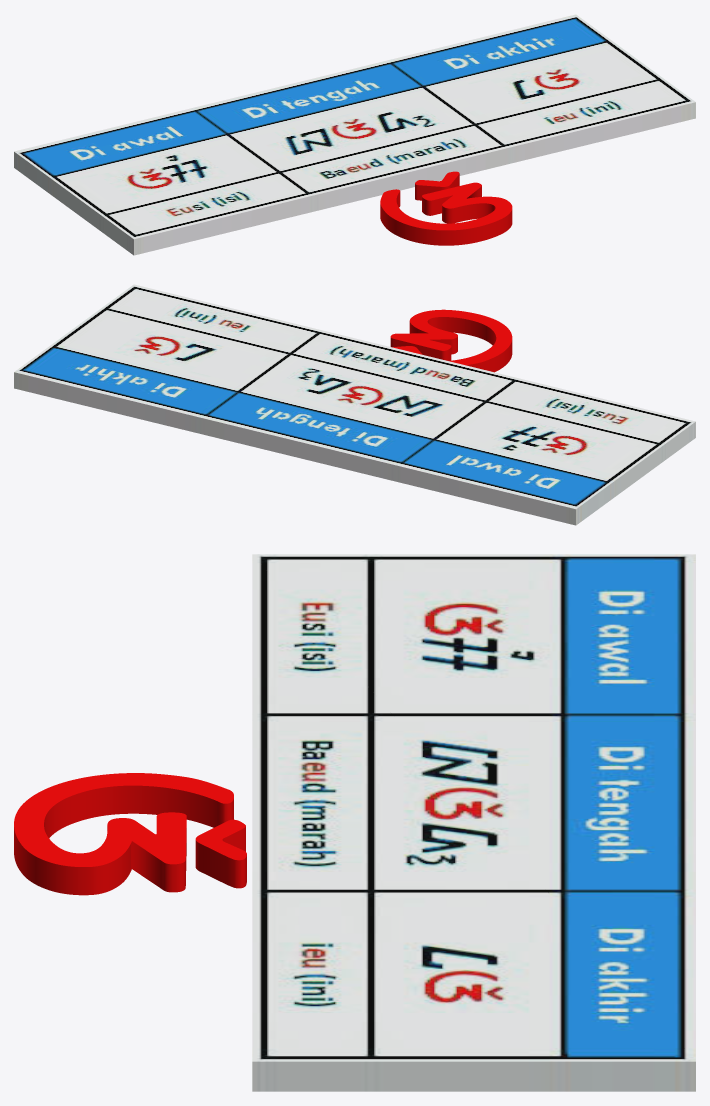
3 renders of one model, top to bottom at view 1: azimuth 30°, elevation 25°; view 2: azimuth 150°, elevation 25°; view 3: azimuth 270°, elevation 25°, orthographic. The views are drawn at different scales.
Parts seen in each view (by area): view 1: contoh-bunyi-huruf-eu-Swara-vokal-mandiri, Text; view 2: contoh-bunyi-huruf-eu-Swara-vokal-mandiri, Text; view 3: contoh-bunyi-huruf-eu-Swara-vokal-mandiri, Text.
Part boxes in pixels (bbox=[...]): contoh-bunyi-huruf-eu-Swara-vokal-mandiri: bbox=[14, 14, 695, 255]; Text: bbox=[380, 171, 512, 245]; contoh-bunyi-huruf-eu-Swara-vokal-mandiri: bbox=[14, 284, 695, 525]; Text: bbox=[390, 309, 512, 372]; contoh-bunyi-huruf-eu-Swara-vokal-mandiri: bbox=[252, 554, 695, 1091]; Text: bbox=[14, 773, 246, 895].
Size of the model in its own units: 2.71 by 0.11 by 1.54.
Materials: 2 (1 with a texture image).
